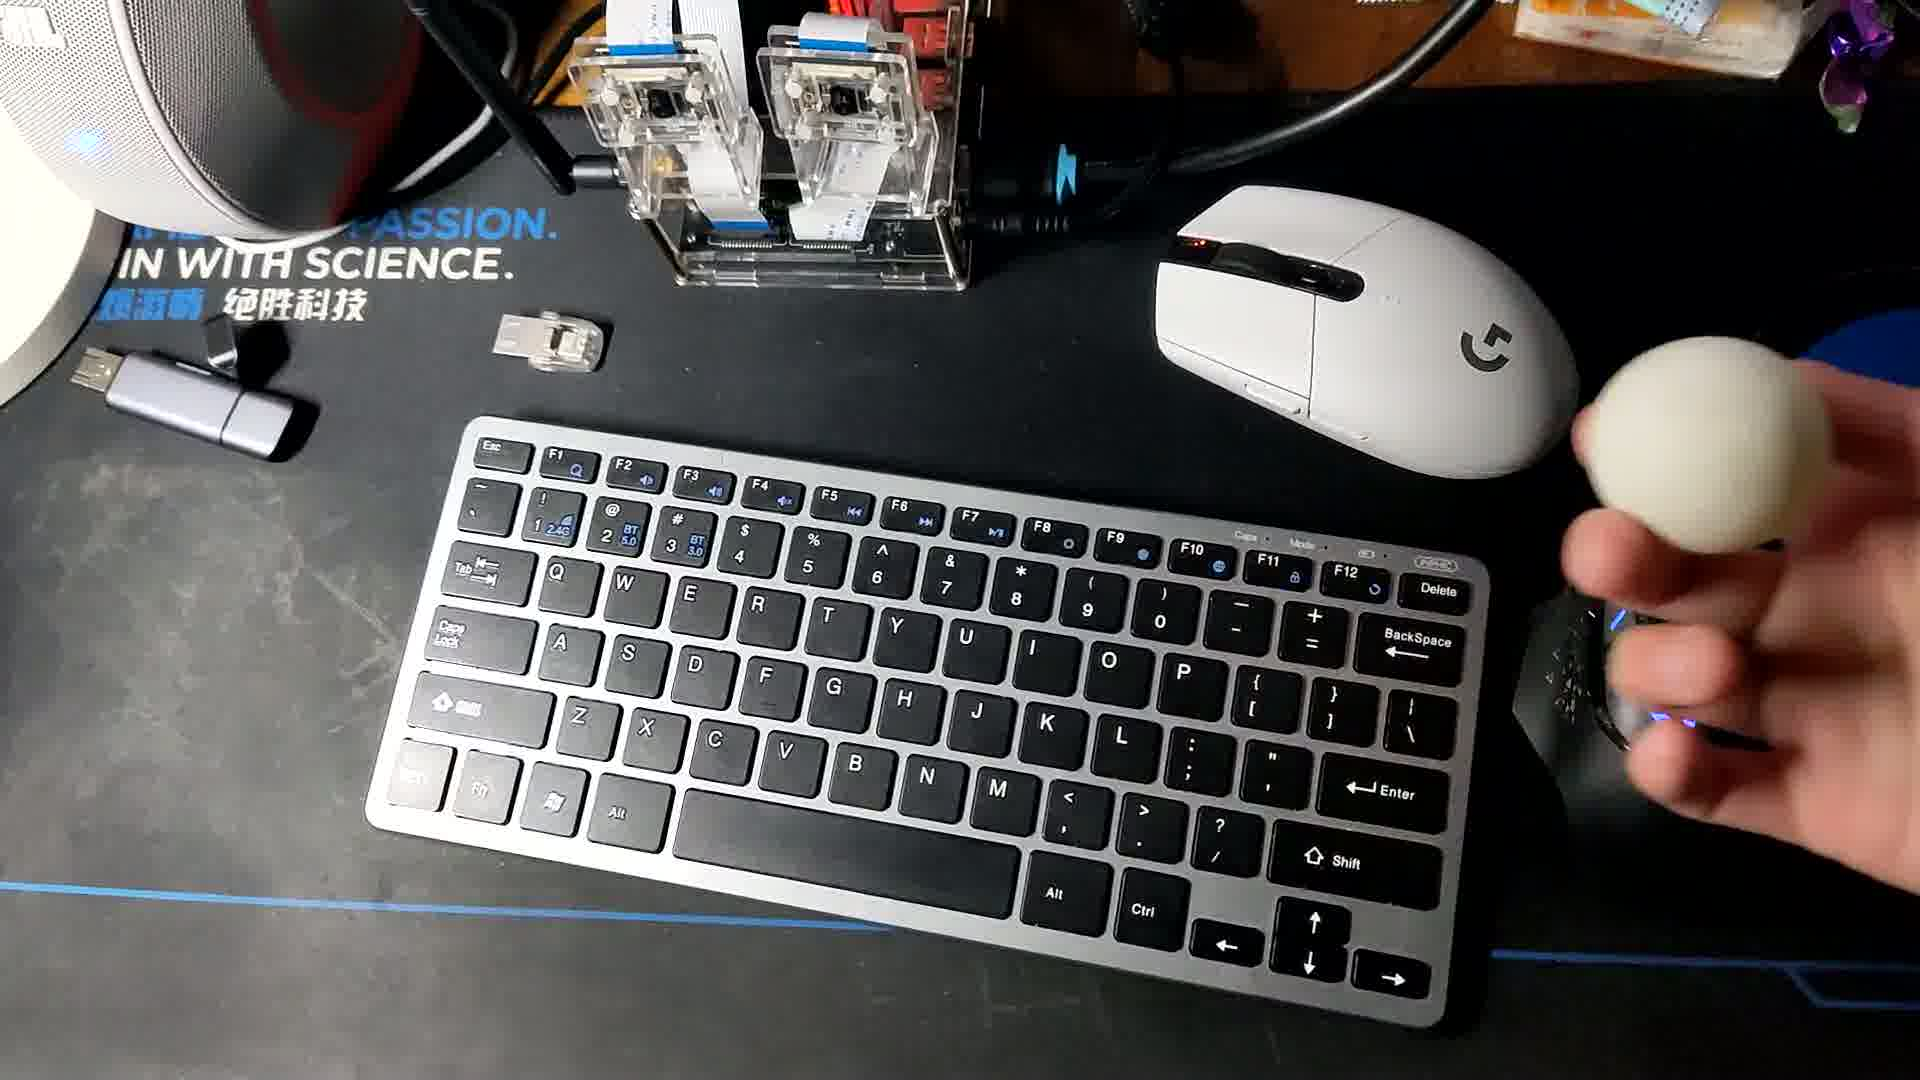Ball: (1592, 328, 1824, 556)
